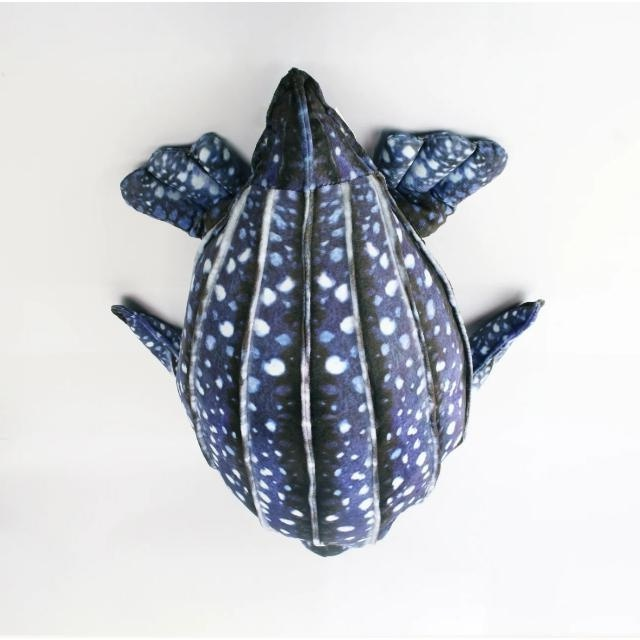turtle: (112, 65, 546, 562)
